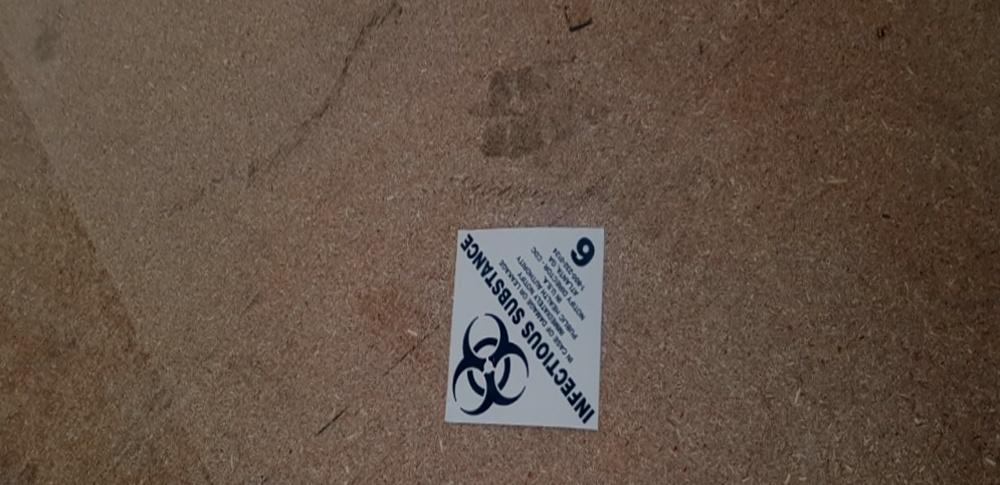infectious-substance: (441, 218, 604, 430)
